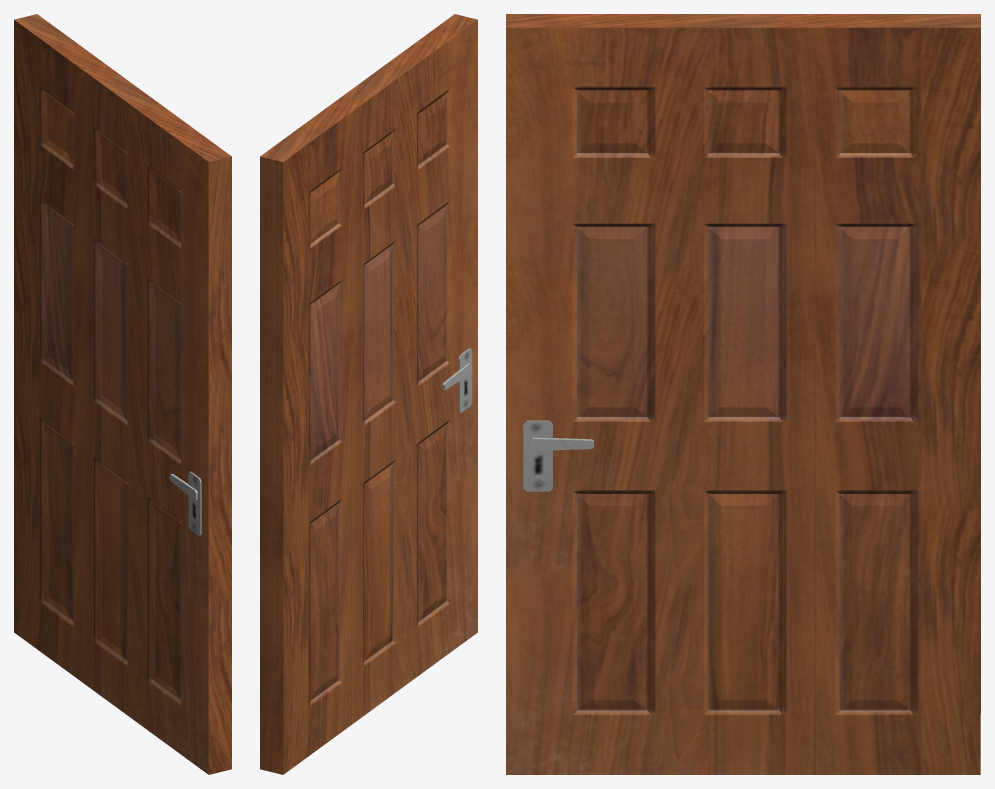
Rendered from Door.FBX.
3 views of the same model, side by side, from view 1: azimuth 30°, elevation 25°; view 2: azimuth 150°, elevation 25°; view 3: azimuth 270°, elevation 25° (orthographic). The views are drawn at different scales.
Visible parts, largest first — view 1: Door; view 2: Door; view 3: Door.
Part boxes in pixels (<box>): Door: <box>14,14,231,774</box>; Door: <box>260,14,477,774</box>; Door: <box>506,14,980,774</box>.
Size of the model in its own units: 4.25 by 84.35 by 48.58.
